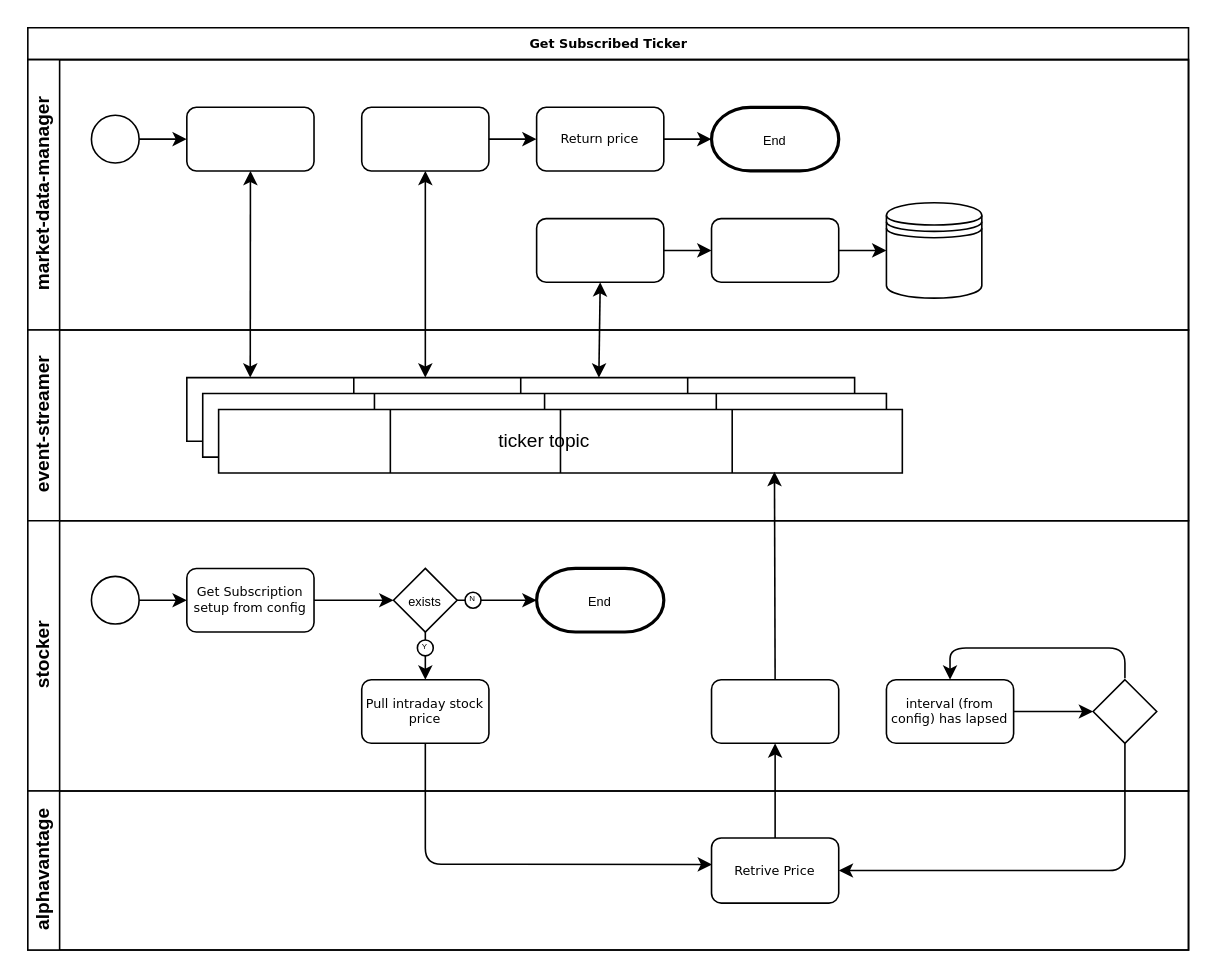
Image size: 1216x978. Some labels were removed from this diagram. Here are the shapes that lost their labels. From the top down, the centre of each, then its label:
At (249,138): "Subscribe to the ticker's topic".
At (424,138): "Consume ticker from topic".
At (599,249): "Consume new ticker from topic".
At (774,249): "Save price".
At (933,249): "intraday_ticker".
At (774,710): "Publish price to topic".
At (1124,710): "lapsed".
